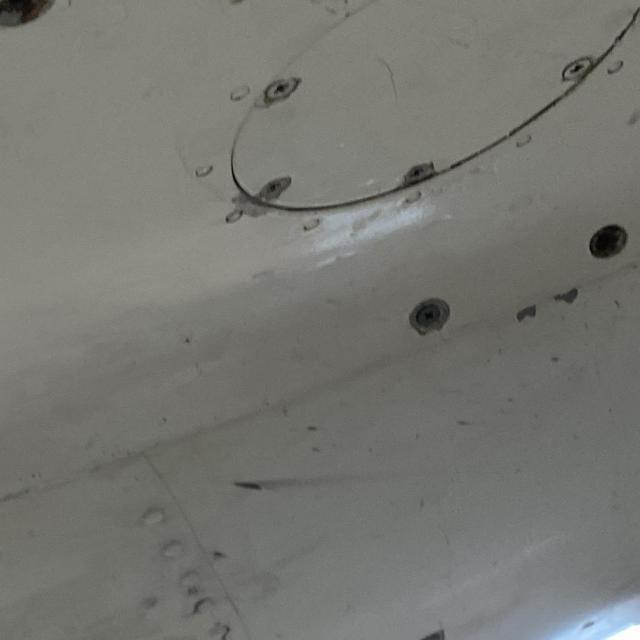Fastener Damage: (0, 0, 58, 31), (585, 222, 628, 259)
